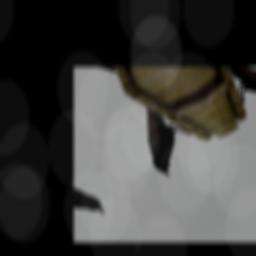Crow: (116, 98, 210, 179)
